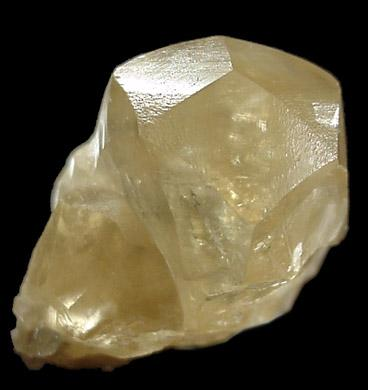calcite: (12, 36, 348, 370)
